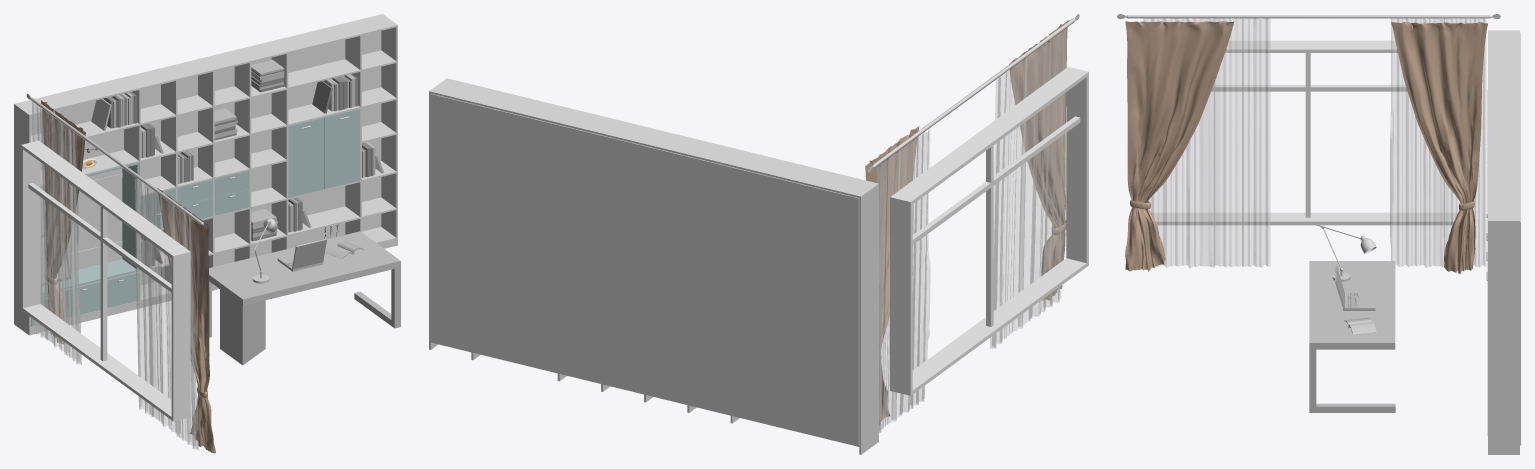
Rendered from 大型书柜书架.fbx.
The picture shows the model from 3 angles, left to right: view 1: azimuth 30°, elevation 25°; view 2: azimuth 150°, elevation 25°; view 3: azimuth 270°, elevation 25°; orthographic projection. The views are drawn at different scales.
Parts seen in each view (by area): view 1: 3DXY_geometry_165, 3DXY_geometry_266, 3DXY_geometry_152, 3DXY_geometry_270, 3DXY_geometry_271, 3DXY_geometry_033, 3DXY_geometry_269, 3DXY_geometry_272, 3DXY_geometry_159, 3DXY_geometry_160, 3DXY_geometry_166, 3DXY_geometry_167 (+28 smaller); view 2: 3DXY_geometry_165, 3DXY_geometry_266, 3DXY_geometry_270, 3DXY_geometry_152, 3DXY_geometry_271, 3DXY_geometry_269, 3DXY_geometry_272, 3DXY_geometry_267, 3DXY_geometry_268, 3DXY_geometry_276, 3DXY_geometry_163; view 3: 3DXY_geometry_270, 3DXY_geometry_269, 3DXY_geometry_152, 3DXY_geometry_272, 3DXY_geometry_271, 3DXY_geometry_033, 3DXY_geometry_266, 3DXY_geometry_276, 3DXY_geometry_267, 3DXY_geometry_036, 3DXY_geometry_268, 3DXY_geometry_141 (+2 smaller).
Boxes of the visible parts, left/top/right/bottom form: 3DXY_geometry_165: left=31, top=31, right=381, bottom=285; 3DXY_geometry_266: left=21, top=140, right=190, bottom=421; 3DXY_geometry_152: left=14, top=14, right=397, bottom=335; 3DXY_geometry_270: left=134, top=177, right=198, bottom=449; 3DXY_geometry_271: left=32, top=102, right=81, bottom=364; 3DXY_geometry_033: left=209, top=231, right=400, bottom=305; 3DXY_geometry_269: left=157, top=188, right=215, bottom=453; 3DXY_geometry_272: left=41, top=100, right=85, bottom=344; 3DXY_geometry_159: left=31, top=50, right=396, bottom=143; 3DXY_geometry_160: left=40, top=87, right=396, bottom=186; 3DXY_geometry_166: left=288, top=117, right=324, bottom=197; 3DXY_geometry_167: left=324, top=109, right=360, bottom=188; 3DXY_geometry_165: left=430, top=93, right=859, bottom=445; 3DXY_geometry_266: left=890, top=67, right=1088, bottom=395; 3DXY_geometry_270: left=989, top=29, right=1066, bottom=348; 3DXY_geometry_152: left=429, top=78, right=878, bottom=454; 3DXY_geometry_271: left=876, top=129, right=930, bottom=432; 3DXY_geometry_269: left=1009, top=20, right=1068, bottom=300; 3DXY_geometry_272: left=865, top=126, right=919, bottom=425; 3DXY_geometry_267: left=912, top=116, right=1080, bottom=244; 3DXY_geometry_268: left=986, top=145, right=993, bottom=326; 3DXY_geometry_276: left=872, top=18, right=1075, bottom=168; 3DXY_geometry_163: left=431, top=341, right=859, bottom=446; 3DXY_geometry_270: left=1143, top=18, right=1270, bottom=267; 3DXY_geometry_269: left=1125, top=21, right=1234, bottom=271; 3DXY_geometry_152: left=1488, top=30, right=1519, bottom=454; 3DXY_geometry_272: left=1391, top=22, right=1487, bottom=273; 3DXY_geometry_271: left=1390, top=18, right=1486, bottom=267; 3DXY_geometry_033: left=1309, top=261, right=1395, bottom=349; 3DXY_geometry_266: left=1151, top=40, right=1457, bottom=225; 3DXY_geometry_276: left=1125, top=15, right=1492, bottom=18; 3DXY_geometry_267: left=1211, top=85, right=1407, bottom=91; 3DXY_geometry_036: left=1309, top=349, right=1395, bottom=412; 3DXY_geometry_268: left=1305, top=53, right=1310, bottom=217; 3DXY_geometry_141: left=1335, top=265, right=1375, bottom=310.
Size of the model in its own units: 4401 by 2586 by 3756.
